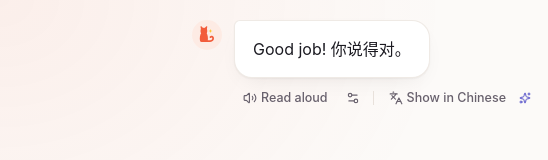
Test case: ReplyTools › reads a reply aloud, each language in its own voice, and stops on a second press
Click the button "Read aloud". click: (285, 98)
box: [234, 84, 337, 112]
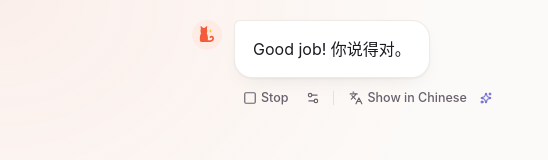
Check: the button "Stop" is pressed
Click the button "Stop". click: (266, 98)
box: [234, 84, 298, 112]
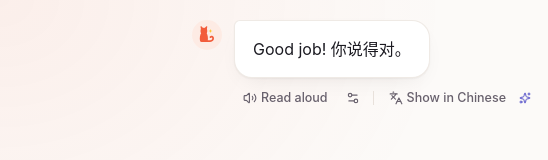
Check: the button "Read aloud" is shown, box [234, 84, 337, 112]
